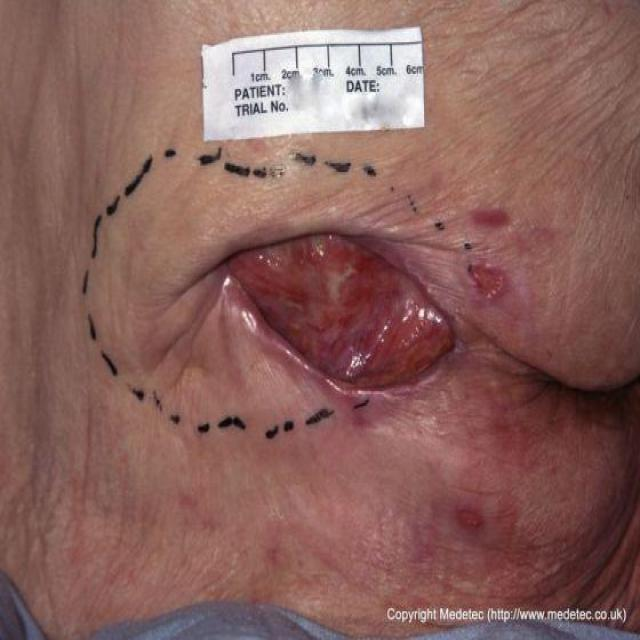stage-3: (230, 233, 454, 389)
